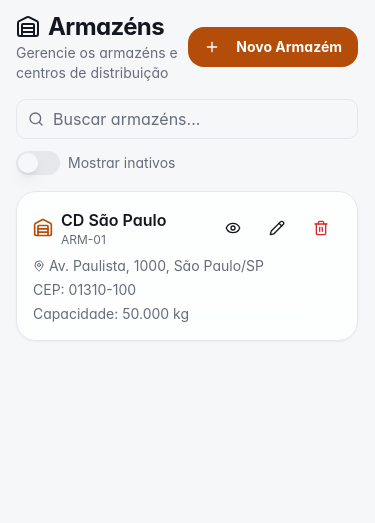
Scenario: WarehousesPage — desativação (soft delete) › oculta armazém inativo até ligar 'Mostrar inativos'
Expected: the link "CD São Paulo" is shown, [61,210,166,230]
Expected: the text "CD Antigo" is not shown
Click the switch. click: {"x": 38, "y": 163}
box: [16,151,60,175]
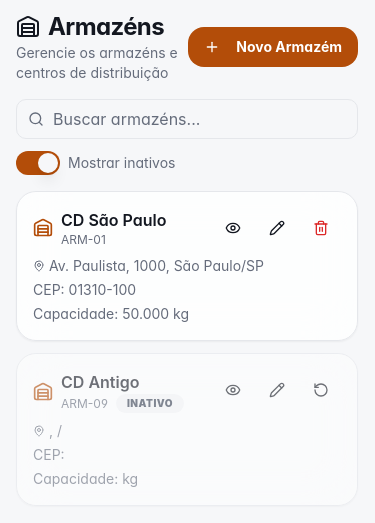
Expected: the link "CD Antigo" is shown, [61,372,139,392]
